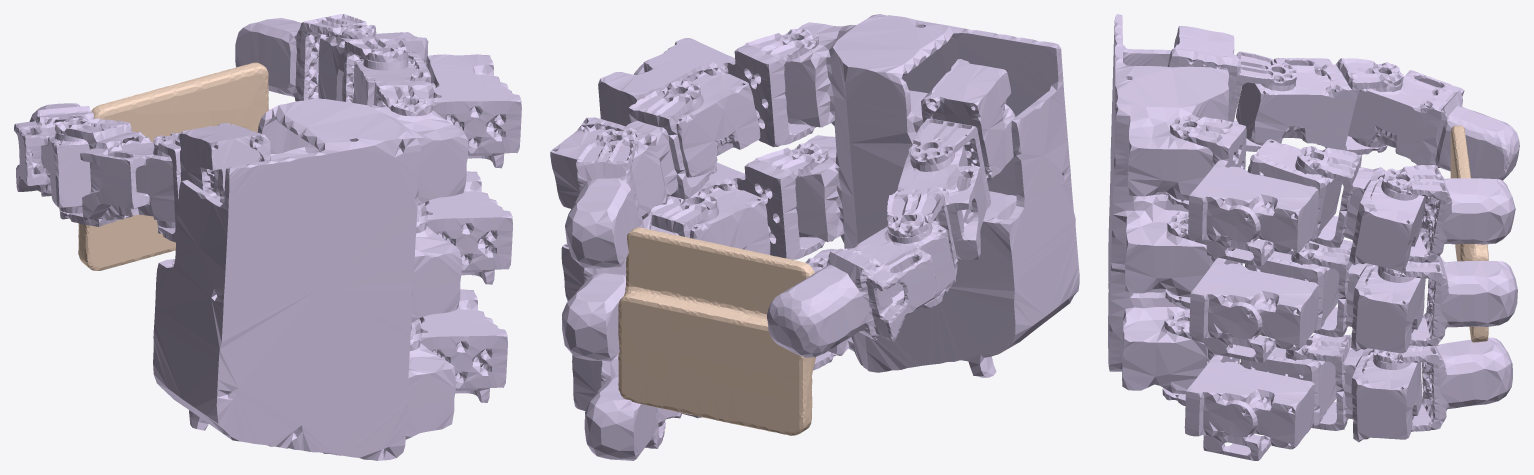
Rendered from 2ff08a94f1b436-closed.glb.
3 views of the same model, side by side, from view 1: azimuth 30°, elevation 25°; view 2: azimuth 150°, elevation 25°; view 3: azimuth 270°, elevation 25° (orthographic). The views are drawn at different scales.
Parts seen in each view (by area): view 1: LEAP_hand, world; view 2: LEAP_hand, world; view 3: LEAP_hand, world.
Part boxes in pixels (x1,y1,x2,y2): LEAP_hand: (14, 14, 521, 460); world: (78, 62, 268, 270); LEAP_hand: (550, 14, 1079, 460); world: (618, 227, 815, 435); LEAP_hand: (1108, 14, 1519, 460); world: (1450, 125, 1488, 342).
Size of the model in its own units: 0.1663 by 0.1373 by 0.1671.
